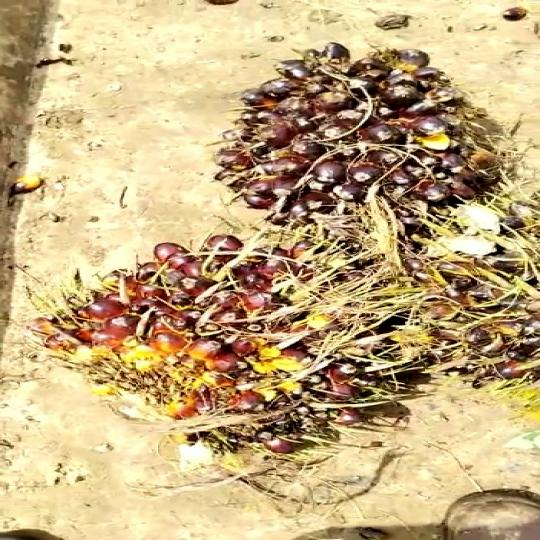kurang masak: (54, 224, 434, 492), (222, 40, 506, 226)
